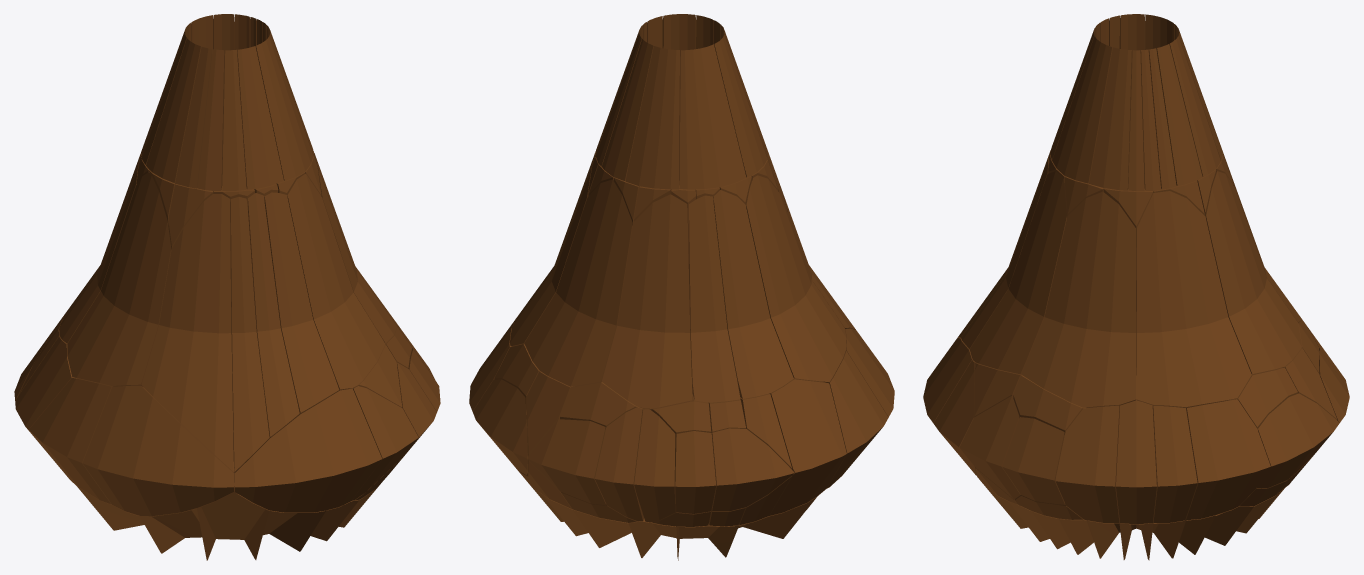
Rendered from vase_broken.fbx.
3 views of the same model, side by side, from view 1: azimuth 30°, elevation 25°; view 2: azimuth 150°, elevation 25°; view 3: azimuth 270°, elevation 25° (orthographic).
Visible parts, largest first — view 1: Cube_cell.052, Cube_cell.041, Cube_cell.008, Cube_cell.029, Cube_cell.054, Cube_cell.006, Cube_cell.094, Cube_cell.046, Cube_cell.048, Cube_cell.044, Cube_cell.017, Cube_cell.068 (+21 smaller); view 2: Cube_cell.031, Cube_cell.057, Cube_cell.008, Cube_cell.062, Cube_cell, Cube_cell.090, Cube_cell.004, Cube_cell.005, Cube_cell.078, Cube_cell.003, Cube_cell.081, Cube_cell.019 (+25 smaller); view 3: Cube_cell.084, Cube_cell.011, Cube_cell.057, Cube_cell.054, Cube_cell.091, Cube_cell.020, Cube_cell.080, Cube_cell.055, Cube_cell.017, Cube_cell.009, Cube_cell.076, Cube_cell.043 (+30 smaller).
Part boxes in pixels (x1=…): Cube_cell.052: x1=141, y1=194, x2=233, y2=471; Cube_cell.041: x1=82, y1=385, x2=234, y2=516; Cube_cell.008: x1=67, y1=172, x2=171, y2=386; Cube_cell.029: x1=234, y1=388, x2=382, y2=512; Cube_cell.054: x1=287, y1=173, x2=385, y2=391; Cube_cell.006: x1=264, y1=192, x2=339, y2=412; Cube_cell.094: x1=230, y1=197, x2=269, y2=471; Cube_cell.046: x1=248, y1=193, x2=299, y2=436; Cube_cell.048: x1=29, y1=378, x2=111, y2=504; Cube_cell.044: x1=237, y1=46, x2=283, y2=189; Cube_cell.017: x1=256, y1=34, x2=313, y2=180; Cube_cell.068: x1=146, y1=38, x2=200, y2=182; Cube_cell.031: x1=602, y1=194, x2=692, y2=408; Cube_cell.057: x1=524, y1=179, x2=632, y2=386; Cube_cell.008: x1=746, y1=175, x2=846, y2=381; Cube_cell.062: x1=713, y1=190, x2=793, y2=398; Cube_cell: x1=688, y1=195, x2=740, y2=402; Cube_cell.090: x1=679, y1=44, x2=746, y2=189; Cube_cell.004: x1=769, y1=378, x2=846, y2=515; Cube_cell.005: x1=625, y1=46, x2=679, y2=189; Cube_cell.078: x1=712, y1=428, x2=794, y2=511; Cube_cell.003: x1=527, y1=419, x2=606, y2=505; Cube_cell.081: x1=634, y1=409, x2=675, y2=522; Cube_cell.019: x1=595, y1=407, x2=643, y2=521; Cube_cell.084: x1=1136, y1=191, x2=1251, y2=408; Cube_cell.011: x1=1021, y1=191, x2=1136, y2=407; Cube_cell.057: x1=1206, y1=171, x2=1301, y2=373; Cube_cell.054: x1=969, y1=171, x2=1066, y2=374; Cube_cell.091: x1=1185, y1=399, x2=1270, y2=520; Cube_cell.020: x1=1055, y1=405, x2=1119, y2=522; Cube_cell.080: x1=1116, y1=400, x2=1156, y2=524; Cube_cell.055: x1=1257, y1=393, x2=1339, y2=488; Cube_cell.017: x1=1052, y1=36, x2=1112, y2=183; Cube_cell.009: x1=1152, y1=405, x2=1197, y2=522; Cube_cell.076: x1=1089, y1=47, x2=1131, y2=190; Cube_cell.043: x1=1002, y1=417, x2=1065, y2=504.
Bounding box in the file's own units: 102 × 126 × 102.
